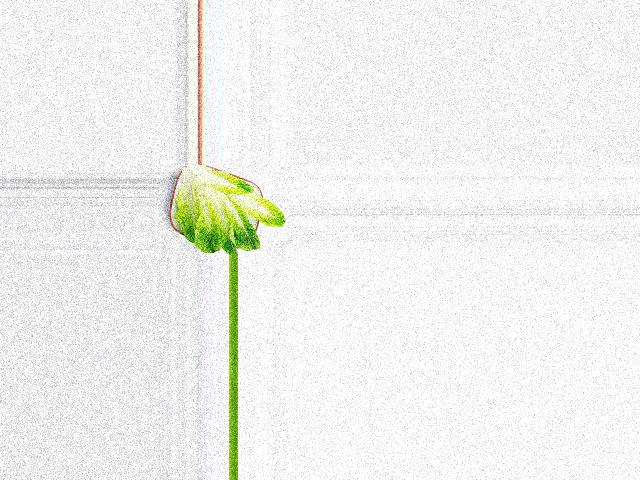lettuce: (168, 167, 287, 255)
